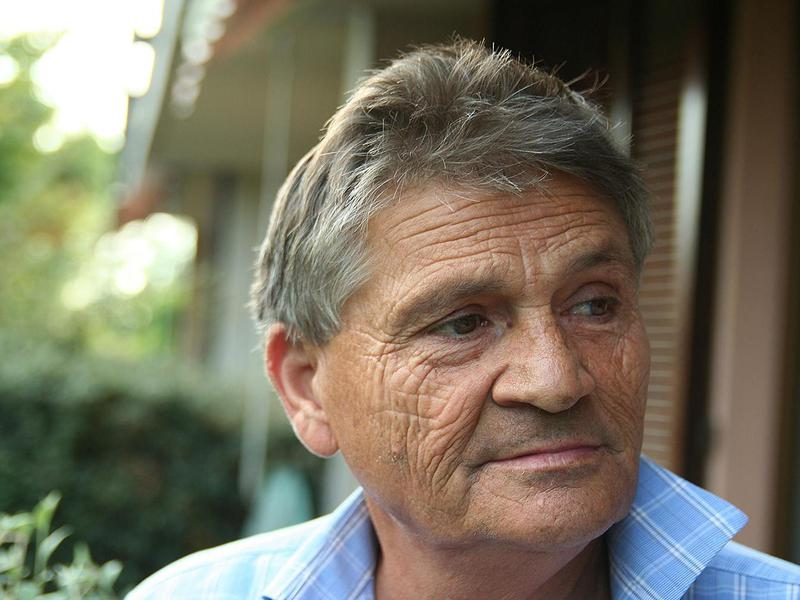person: (142, 50, 797, 600)
